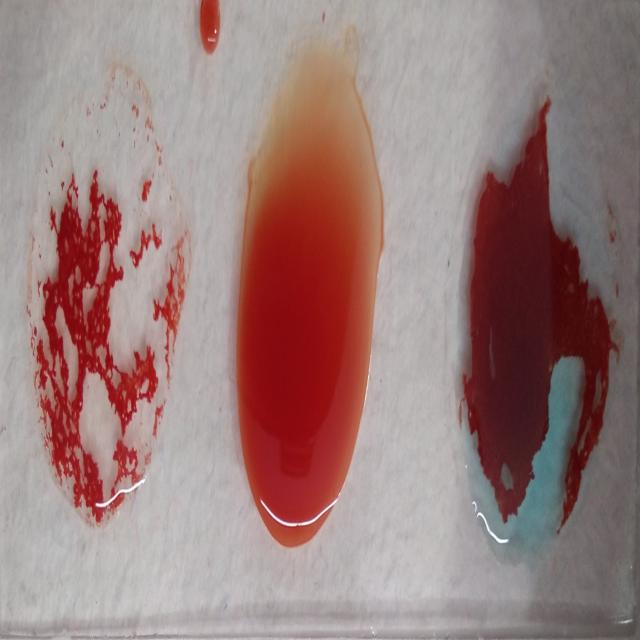A: (448, 69, 612, 562)
D: (26, 84, 185, 530)
